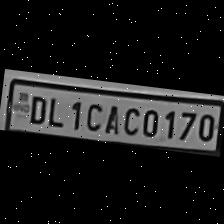0: (137, 104, 161, 137), (192, 108, 216, 140)
1: (62, 95, 84, 130), (158, 105, 178, 138)
7: (172, 106, 196, 140)
A: (100, 99, 122, 133)
C: (80, 96, 104, 130), (119, 102, 142, 135)
D: (24, 90, 48, 124)
L: (44, 92, 66, 126)
